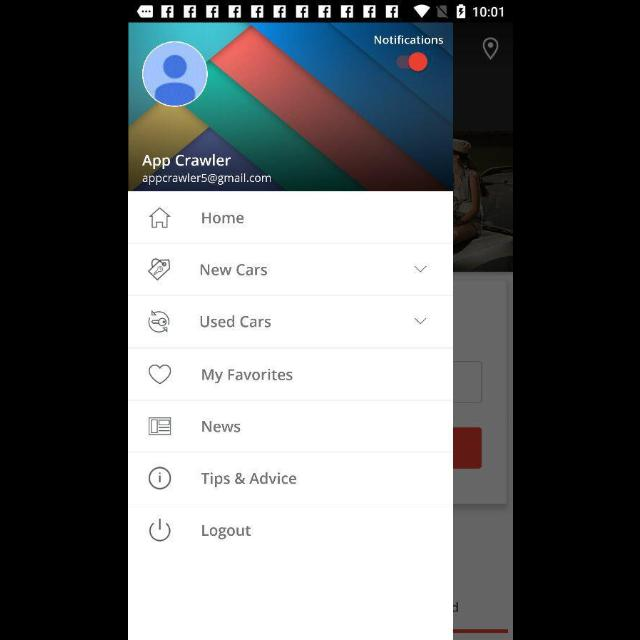icon: (141, 42, 207, 108), (148, 466, 170, 490), (148, 311, 170, 334), (148, 207, 170, 229), (148, 259, 170, 281), (148, 416, 170, 436), (148, 364, 170, 384), (413, 265, 427, 273), (414, 318, 426, 324)
image: (149, 518, 171, 542)
panel: (128, 24, 452, 638)
switch: (396, 51, 428, 73)
text: (142, 172, 270, 185), (200, 472, 296, 488), (201, 368, 293, 384), (142, 154, 230, 170), (199, 315, 271, 329), (200, 263, 268, 277), (373, 34, 442, 46), (202, 524, 250, 540), (202, 213, 244, 225), (202, 421, 240, 433)
uppertaskbar: (128, 1, 512, 23)
